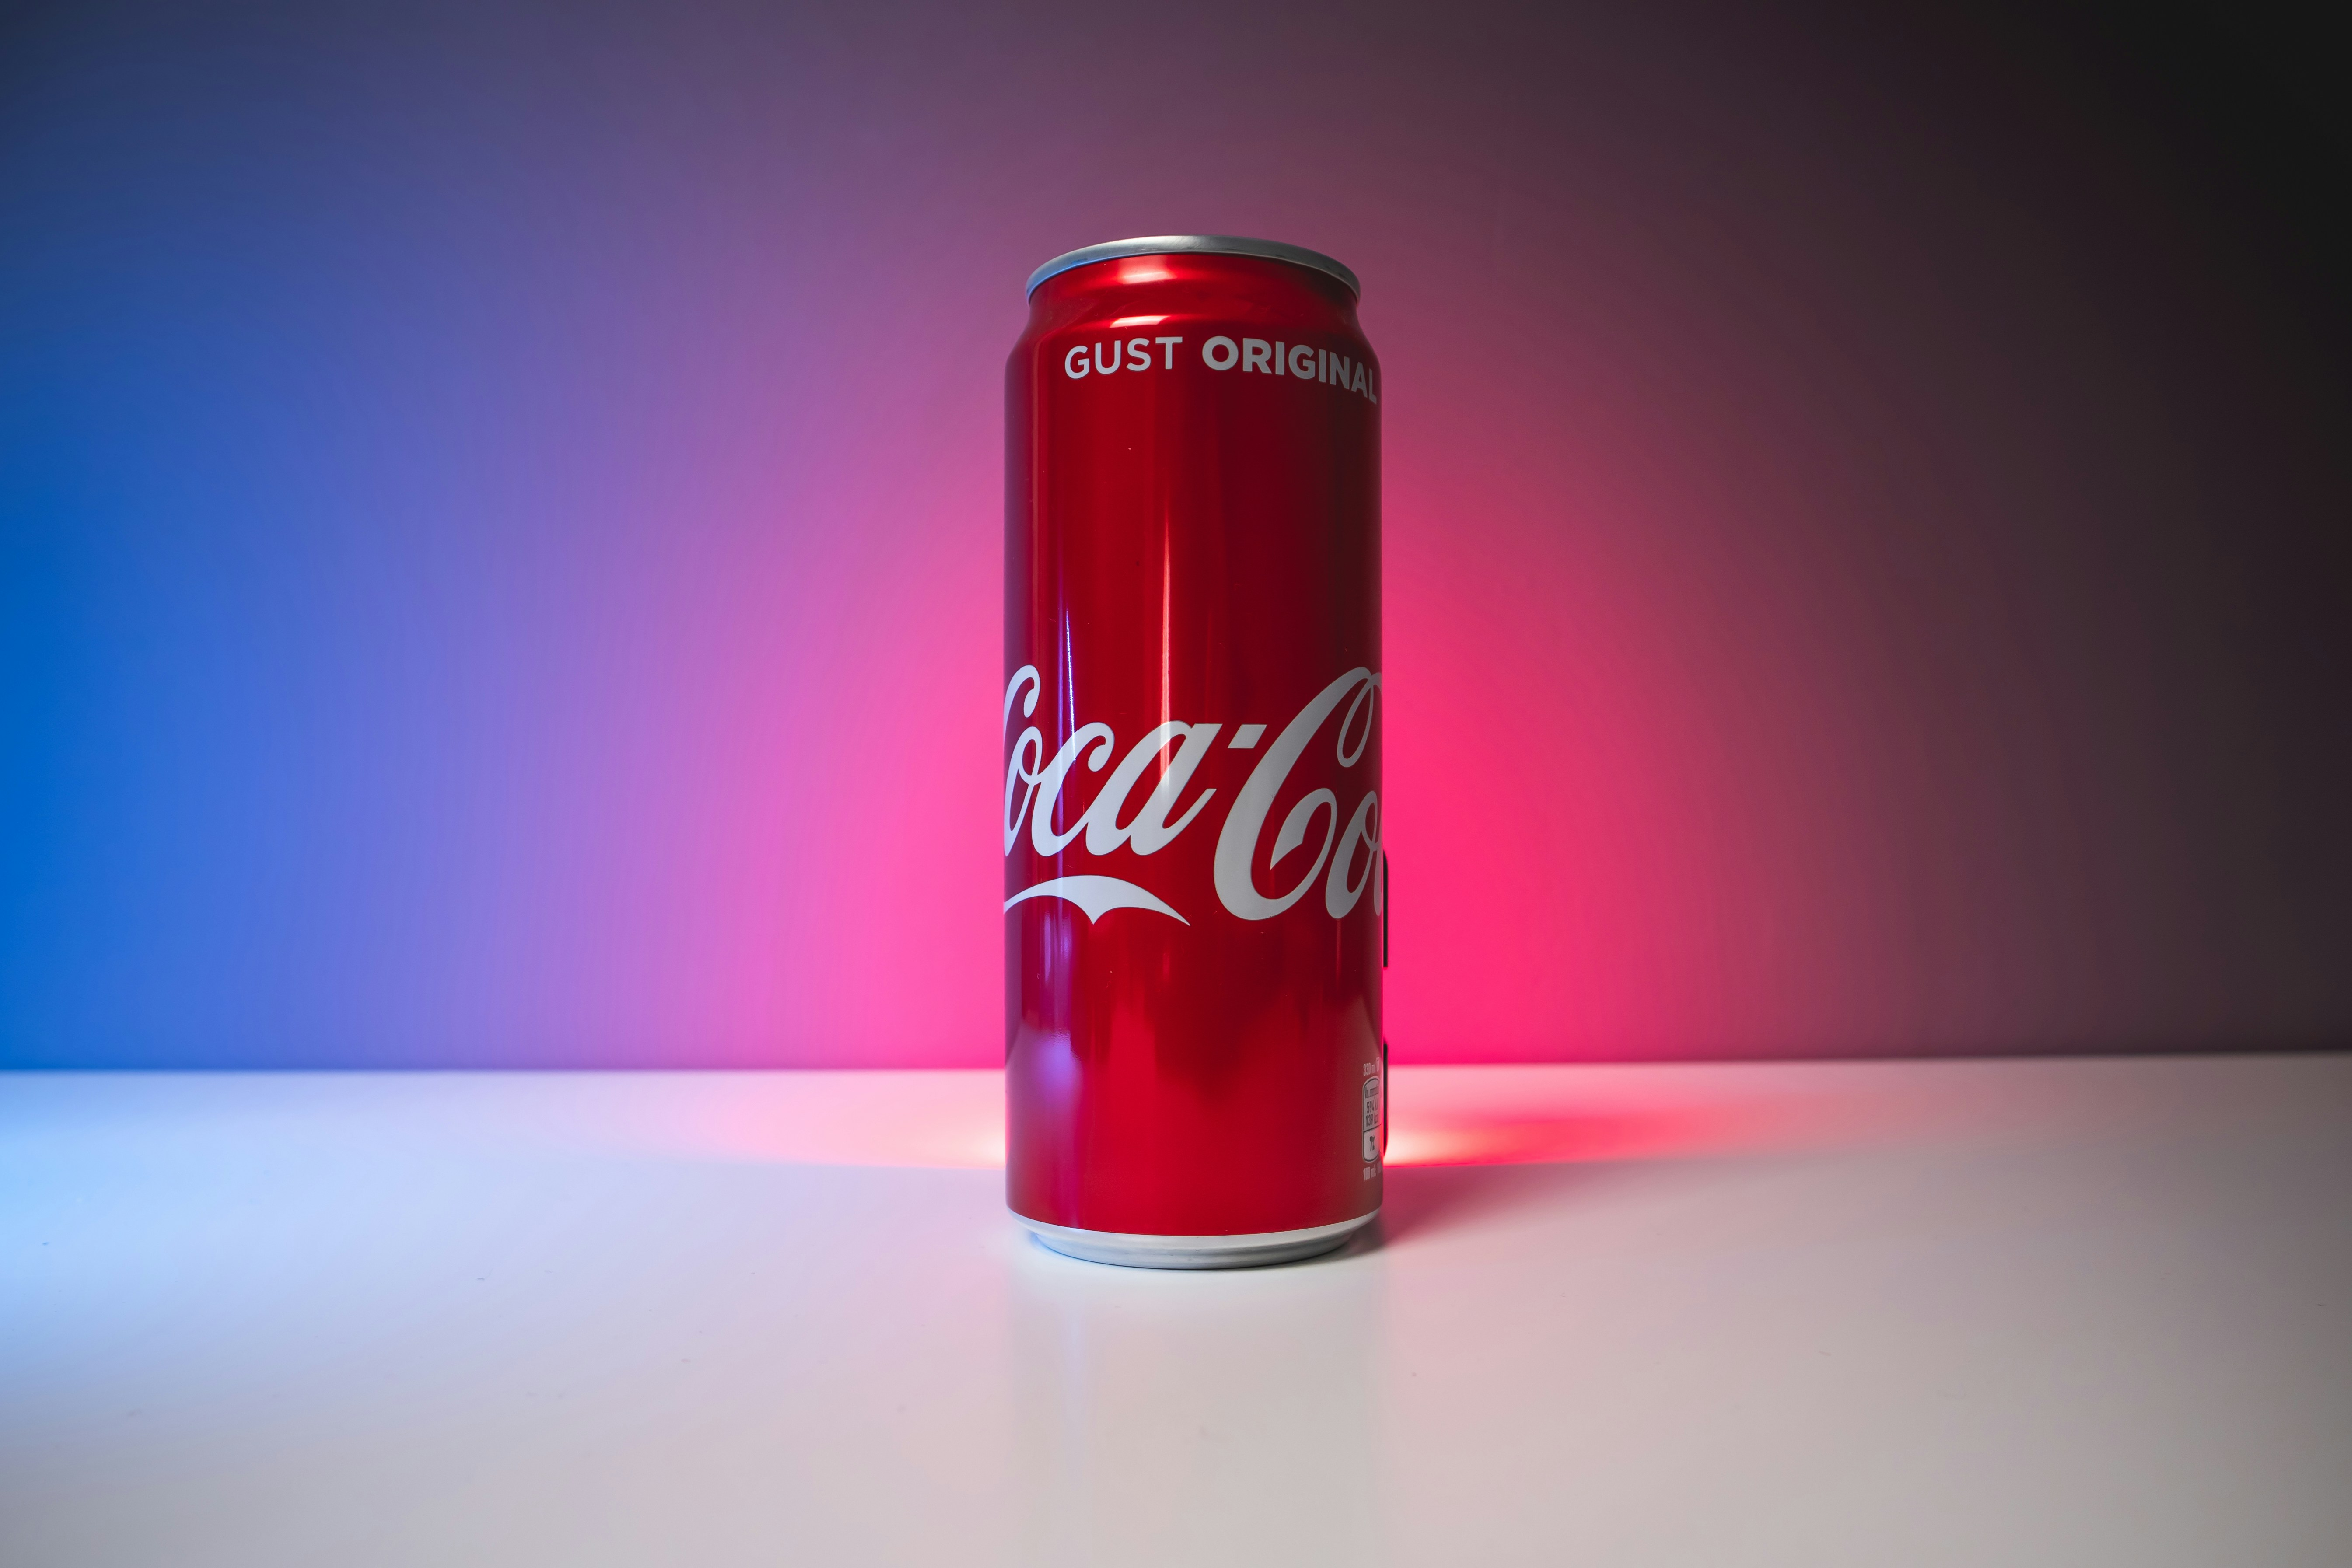COCOCOLA: (1008, 243, 1371, 1245)
